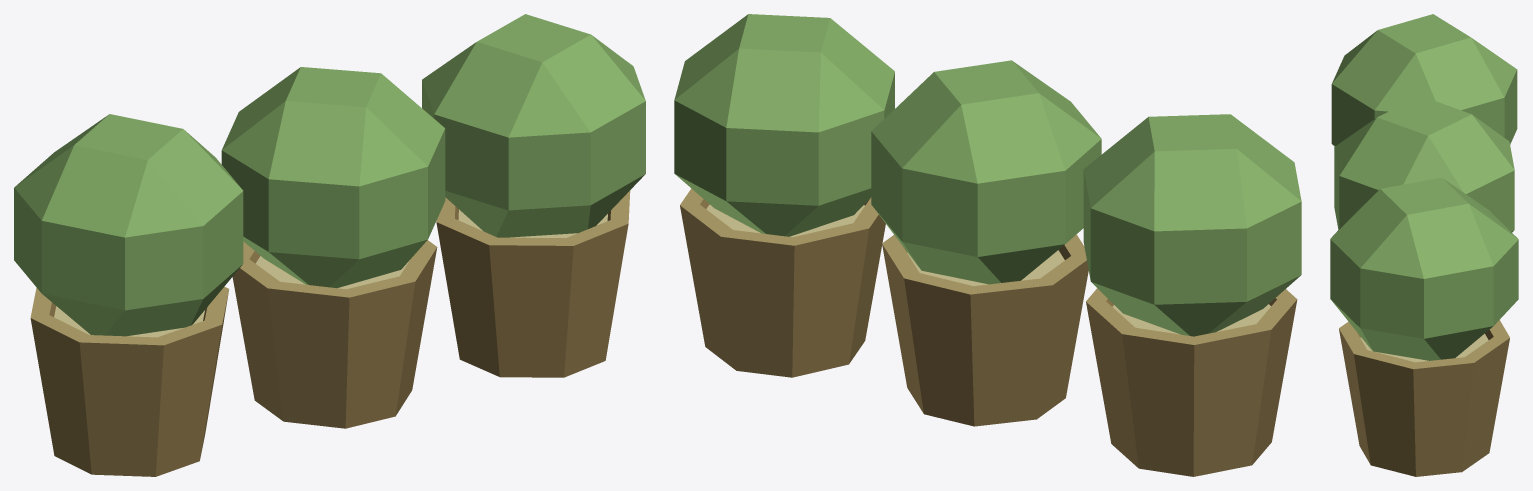
File: Flower_Bed2.glb
3 renders of one model, left to right at view 1: azimuth 30°, elevation 25°; view 2: azimuth 150°, elevation 25°; view 3: azimuth 270°, elevation 25°, orthographic. The views are drawn at different scales.
Visible parts, largest first — view 1: huitugou_2443_2668; view 2: huitugou_2443_2668; view 3: huitugou_2443_2668.
Part boxes in pixels (bbox=[...]): huitugou_2443_2668: bbox=[14, 14, 645, 476]; huitugou_2443_2668: bbox=[674, 14, 1301, 476]; huitugou_2443_2668: bbox=[1330, 14, 1518, 476].
Bounding box in the file's own units: 0.5715 × 0.2797 × 0.1886.
Materials: 1 (1 with a texture image).
